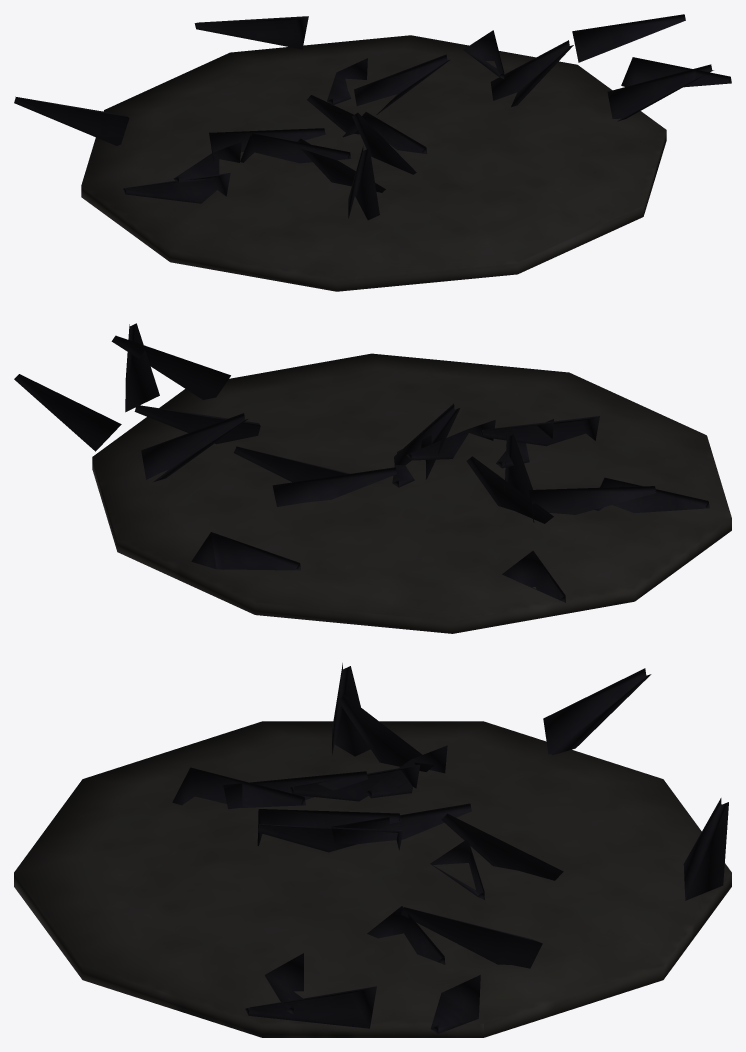
File: feather_drift.obj
3 renders of one model, top to bottom at view 1: azimuth 30°, elevation 25°; view 2: azimuth 150°, elevation 25°; view 3: azimuth 270°, elevation 25°, orthographic. The views are drawn at different scales.
Parts seen in each view (by area): view 1: part1, part0; view 2: part1, part0; view 3: part1, part0.
Part boxes in pixels (<box>): part1: <box>81,35,666,291</box>; part0: <box>14,14,731,220</box>; part1: <box>92,353,731,633</box>; part0: <box>14,323,709,602</box>; part1: <box>14,721,731,1037</box>; part0: <box>172,663,728,1033</box>.
Bounding box in the file's own units: 0.9839 × 0.1151 × 0.8189.
